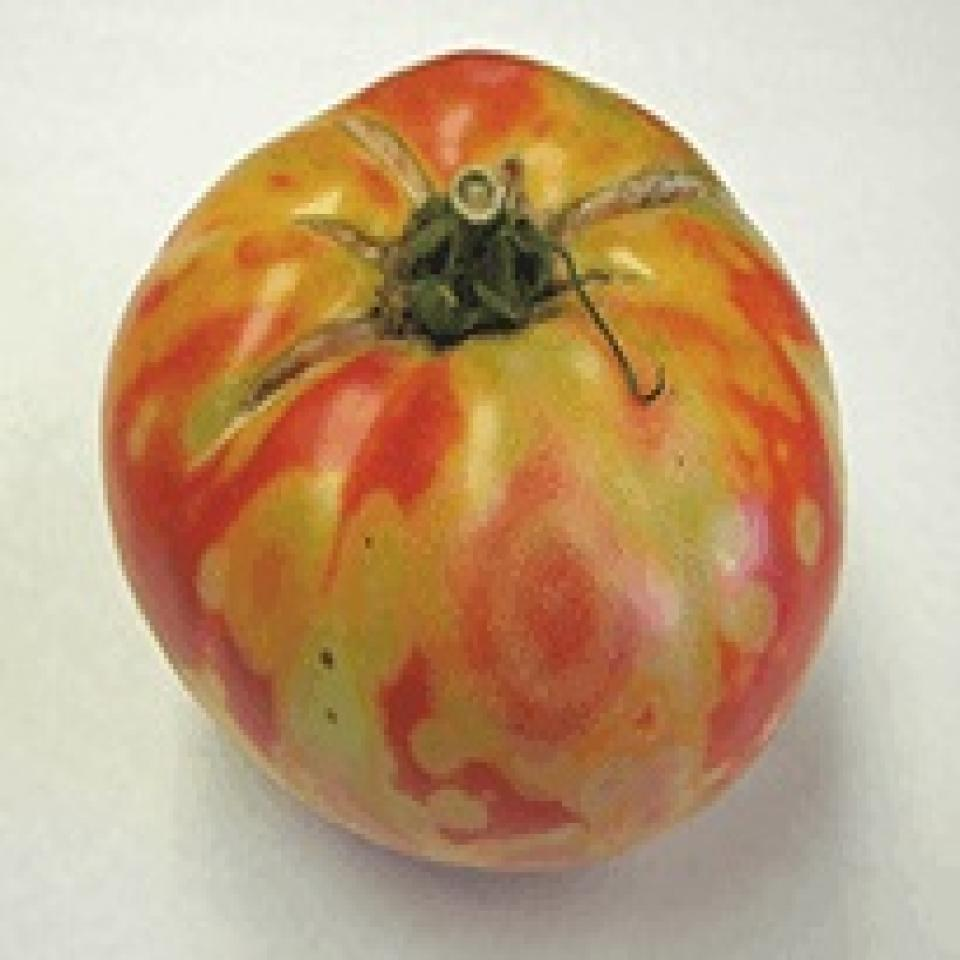Spotted wilt Virus: (108, 49, 848, 878)
